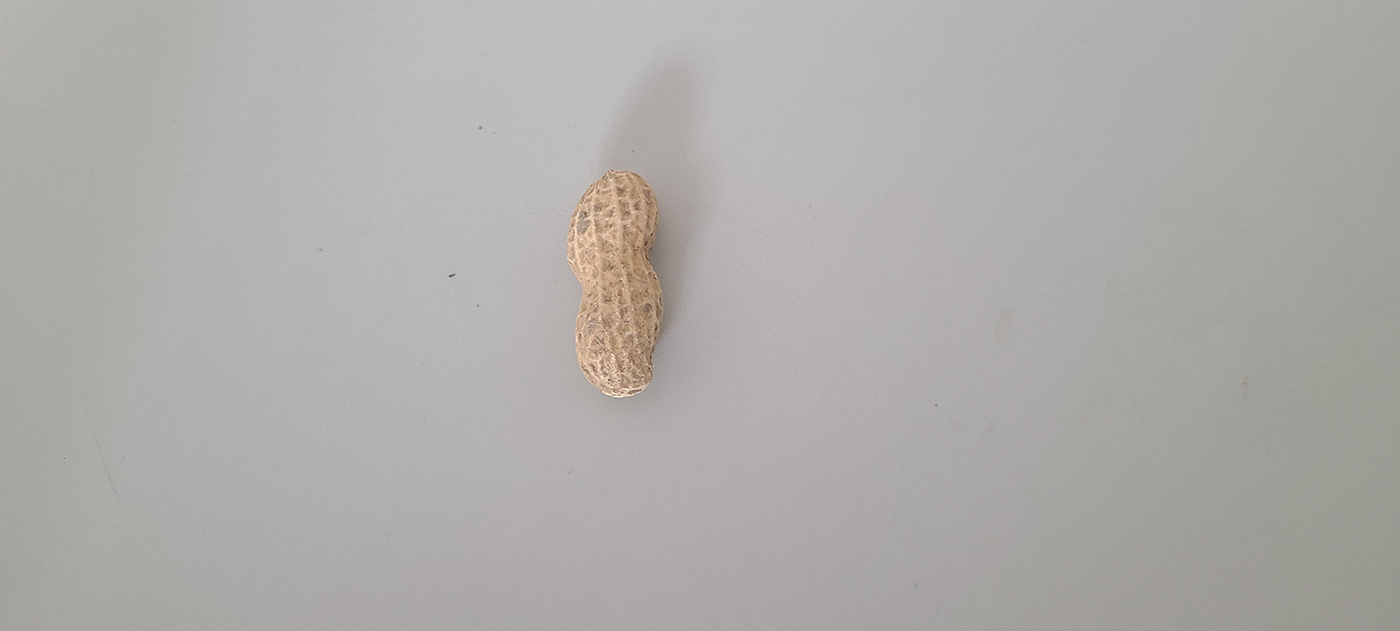h: (567, 167, 666, 399)
